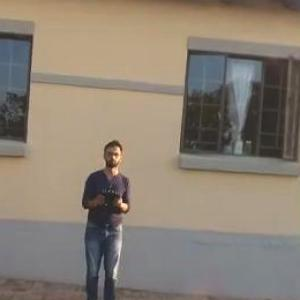follow: (73, 135, 134, 299)
